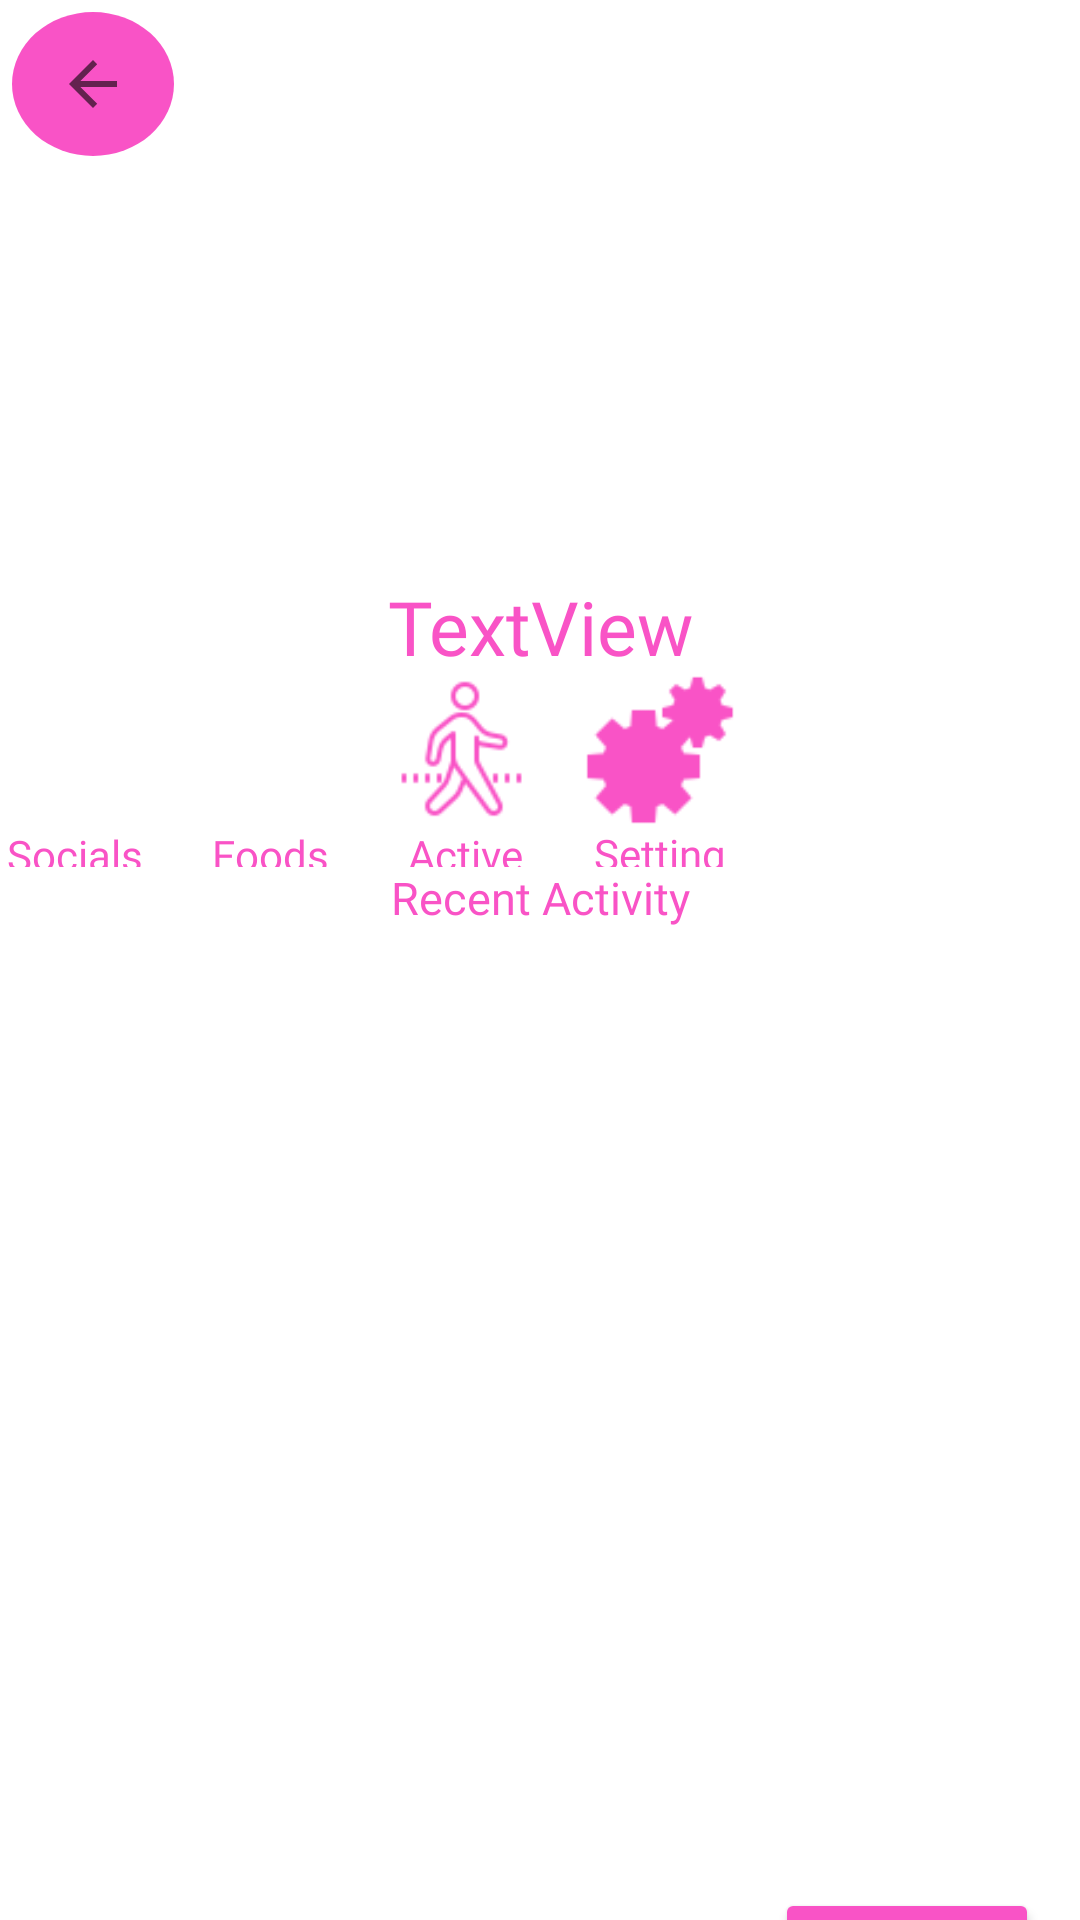

Point at icon controls on the screen. Image size 1080 x 1920, points as [x,y].
exercise: [461,748]
